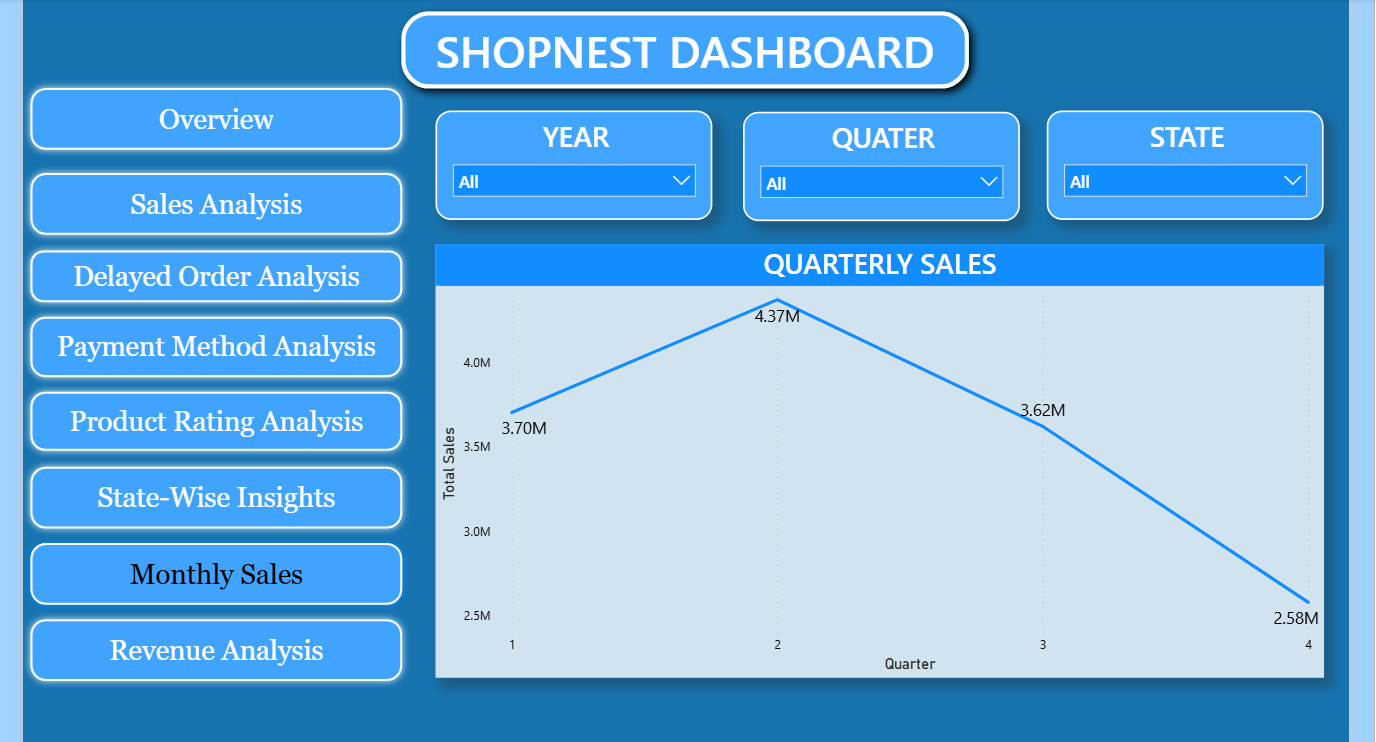

The dashboard page shown, as its layout file describes it:
{"tool":"powerbi","page":{"name":"Monthly Sales","canvas":[1280,720],"ordinal":6},"visuals":[{"type":"shape","box":[352.7,0,573.6,100.2],"z":0},{"type":"slicer","title":"YEAR","fields":{"Values":["orders_dataset.Year"]},"box":[397.9,108.4,267.6,105.7],"z":1000},{"type":"slicer","title":"QUATER","fields":{"Values":["orders_dataset.Quarter"]},"box":[694.3,109.8,267.6,105.7],"z":2000},{"type":"slicer","title":"STATE","fields":{"Values":["orders_dataset.state"]},"box":[988,108.4,267.6,105.7],"z":3000},{"type":"lineChart","title":"QUARTERLY SALES","fields":{"Y":["Calculated Measures.Total Sales"],"Category":["orders_dataset.Quarter"]},"box":[397.9,237.4,857.6,418.5],"z":4000},{"type":"shape","box":[0,236,373.2,64.5],"z":5000},{"type":"shape","box":[0,161.9,373.2,74.1],"z":6000},{"type":"shape","box":[0,300.5,373.2,72.7],"z":7000},{"type":"shape","box":[0,444.6,373.2,74.1],"z":8000},{"type":"shape","box":[0,373.2,373.2,71.4],"z":9000},{"type":"shape","box":[0,592.8,373.2,74.1],"z":10000},{"type":"shape","box":[0,518.7,373.2,74.1],"z":11000},{"type":"shape","box":[0,79.6,373.2,74.1],"z":12000}]}

Visuals, with their boxes on the page's 1280x720 design canvas (x1, y1, x2, y2). These are canvas units, not pixel positions in the 1376x742 screenshot, which may show the page scaled, cropped or inside an application window:
shape: detection(353, 0, 926, 100)
"YEAR" slicer: detection(398, 108, 666, 214)
"QUATER" slicer: detection(694, 110, 962, 216)
"STATE" slicer: detection(988, 108, 1256, 214)
"QUARTERLY SALES" lineChart: detection(398, 237, 1256, 656)
shape: detection(0, 236, 373, 300)
shape: detection(0, 162, 373, 236)
shape: detection(0, 300, 373, 373)
shape: detection(0, 445, 373, 519)
shape: detection(0, 373, 373, 445)
shape: detection(0, 593, 373, 667)
shape: detection(0, 519, 373, 593)
shape: detection(0, 80, 373, 154)
